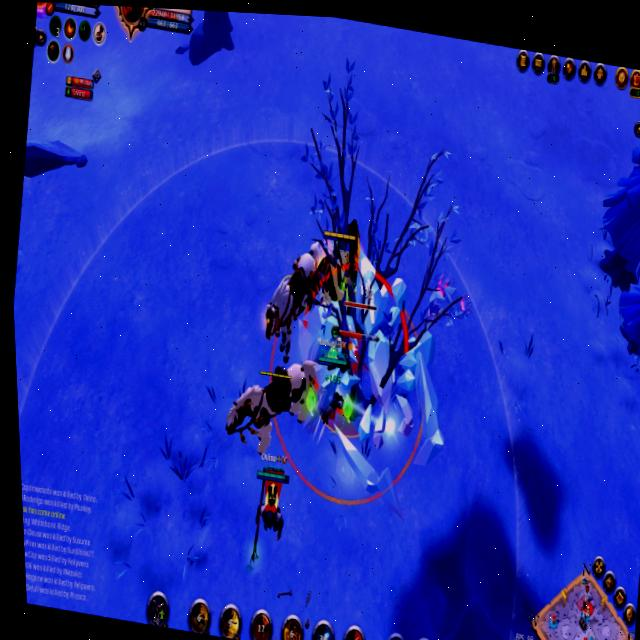ore: (278, 270, 466, 523)
red: (237, 442, 306, 585), (301, 331, 363, 452), (318, 229, 362, 256)
silver: (265, 270, 425, 514)
